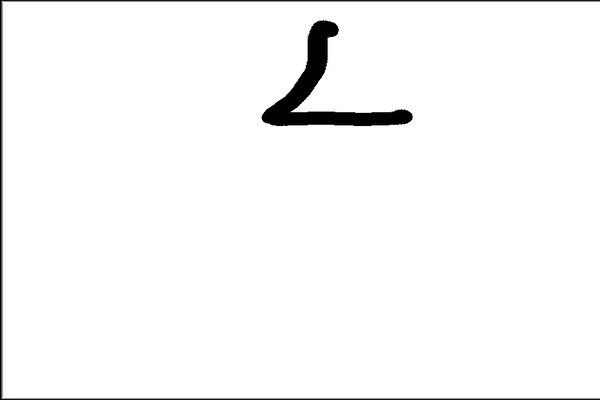L: (252, 11, 420, 134)
